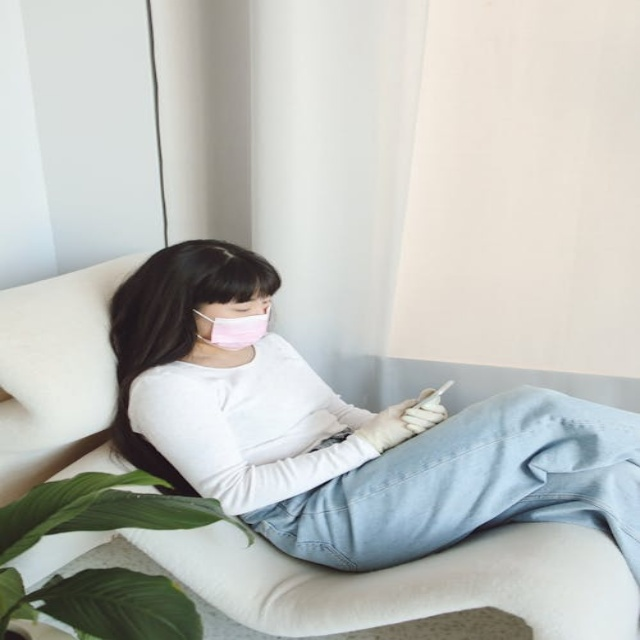Guantes: (355, 395, 444, 453)
Mascara: (192, 305, 272, 350)
Sin_gafas: (209, 297, 276, 316)
